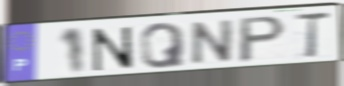1: (57, 26, 87, 77)
N: (189, 18, 237, 67), (90, 25, 137, 73)
P: (237, 14, 289, 65)
Q: (139, 21, 188, 71)
T: (292, 10, 333, 60)
